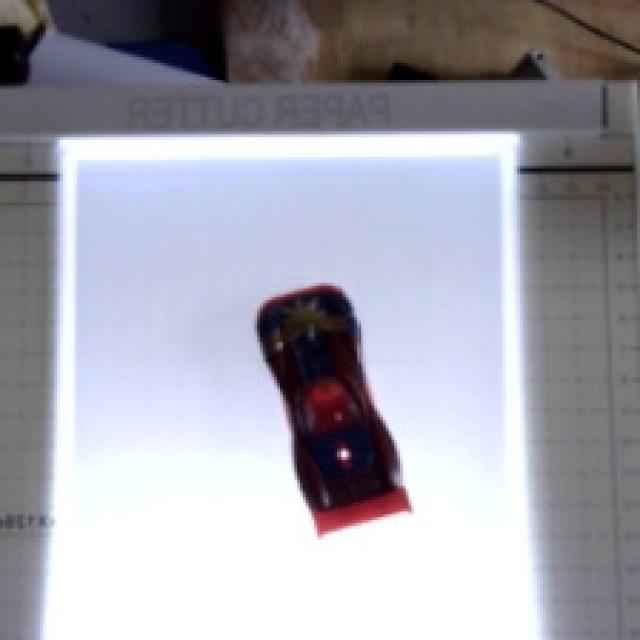Red Car: (221, 243, 449, 577)
